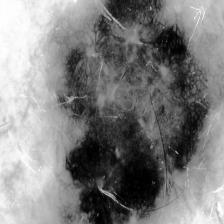Benign Marking or Mole: (37, 0, 223, 224)
